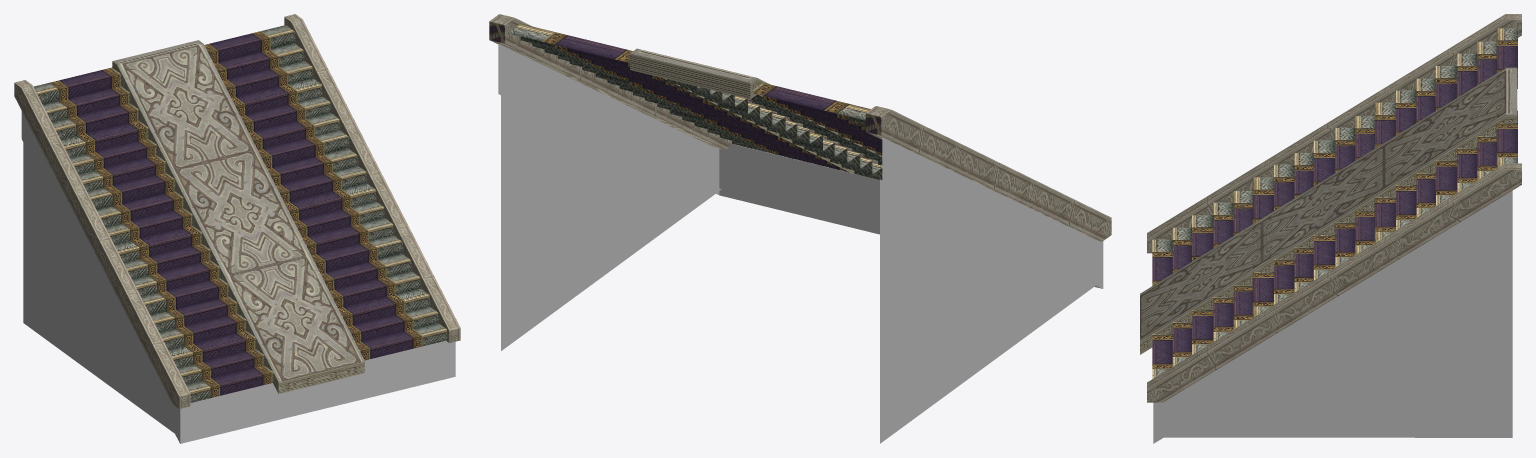
File: environment_Building_zhucheng_jianzhu_001_k.FBX
The picture shows the model from 3 angles, left to right: view 1: azimuth 30°, elevation 25°; view 2: azimuth 150°, elevation 25°; view 3: azimuth 270°, elevation 25°; orthographic projection. The views are drawn at different scales.
Parts seen in each view (by area): view 1: environment_Building_zhucheng_jianzhu_001_k03, environment_Building_zhucheng_jianzhu_001_k01, environment_Building_zhucheng_jianzhu_001_k02, environment_Building_zhucheng_jianzhu_001_k04; view 2: environment_Building_zhucheng_jianzhu_001_k04, environment_Building_zhucheng_jianzhu_001_k02, environment_Building_zhucheng_jianzhu_001_k03, environment_Building_zhucheng_jianzhu_001_k01; view 3: environment_Building_zhucheng_jianzhu_001_k03, environment_Building_zhucheng_jianzhu_001_k04, environment_Building_zhucheng_jianzhu_001_k01, environment_Building_zhucheng_jianzhu_001_k02.
Part boxes in pixels (x1=…): environment_Building_zhucheng_jianzhu_001_k03: x1=14, y1=14, x2=460, y2=408; environment_Building_zhucheng_jianzhu_001_k01: x1=112, y1=40, x2=364, y2=393; environment_Building_zhucheng_jianzhu_001_k02: x1=21, y1=111, x2=455, y2=443; environment_Building_zhucheng_jianzhu_001_k04: x1=23, y1=143, x2=174, y2=433; environment_Building_zhucheng_jianzhu_001_k04: x1=501, y1=87, x2=1095, y2=443; environment_Building_zhucheng_jianzhu_001_k02: x1=498, y1=44, x2=1103, y2=288; environment_Building_zhucheng_jianzhu_001_k03: x1=489, y1=14, x2=1111, y2=241; environment_Building_zhucheng_jianzhu_001_k01: x1=630, y1=48, x2=882, y2=174; environment_Building_zhucheng_jianzhu_001_k03: x1=1147, y1=14, x2=1521, y2=402; environment_Building_zhucheng_jianzhu_001_k04: x1=1164, y1=230, x2=1512, y2=437; environment_Building_zhucheng_jianzhu_001_k01: x1=1140, y1=67, x2=1517, y2=354; environment_Building_zhucheng_jianzhu_001_k02: x1=1153, y1=190, x2=1512, y2=443.
Size of the model in its own units: 1065 by 880 by 1104.
